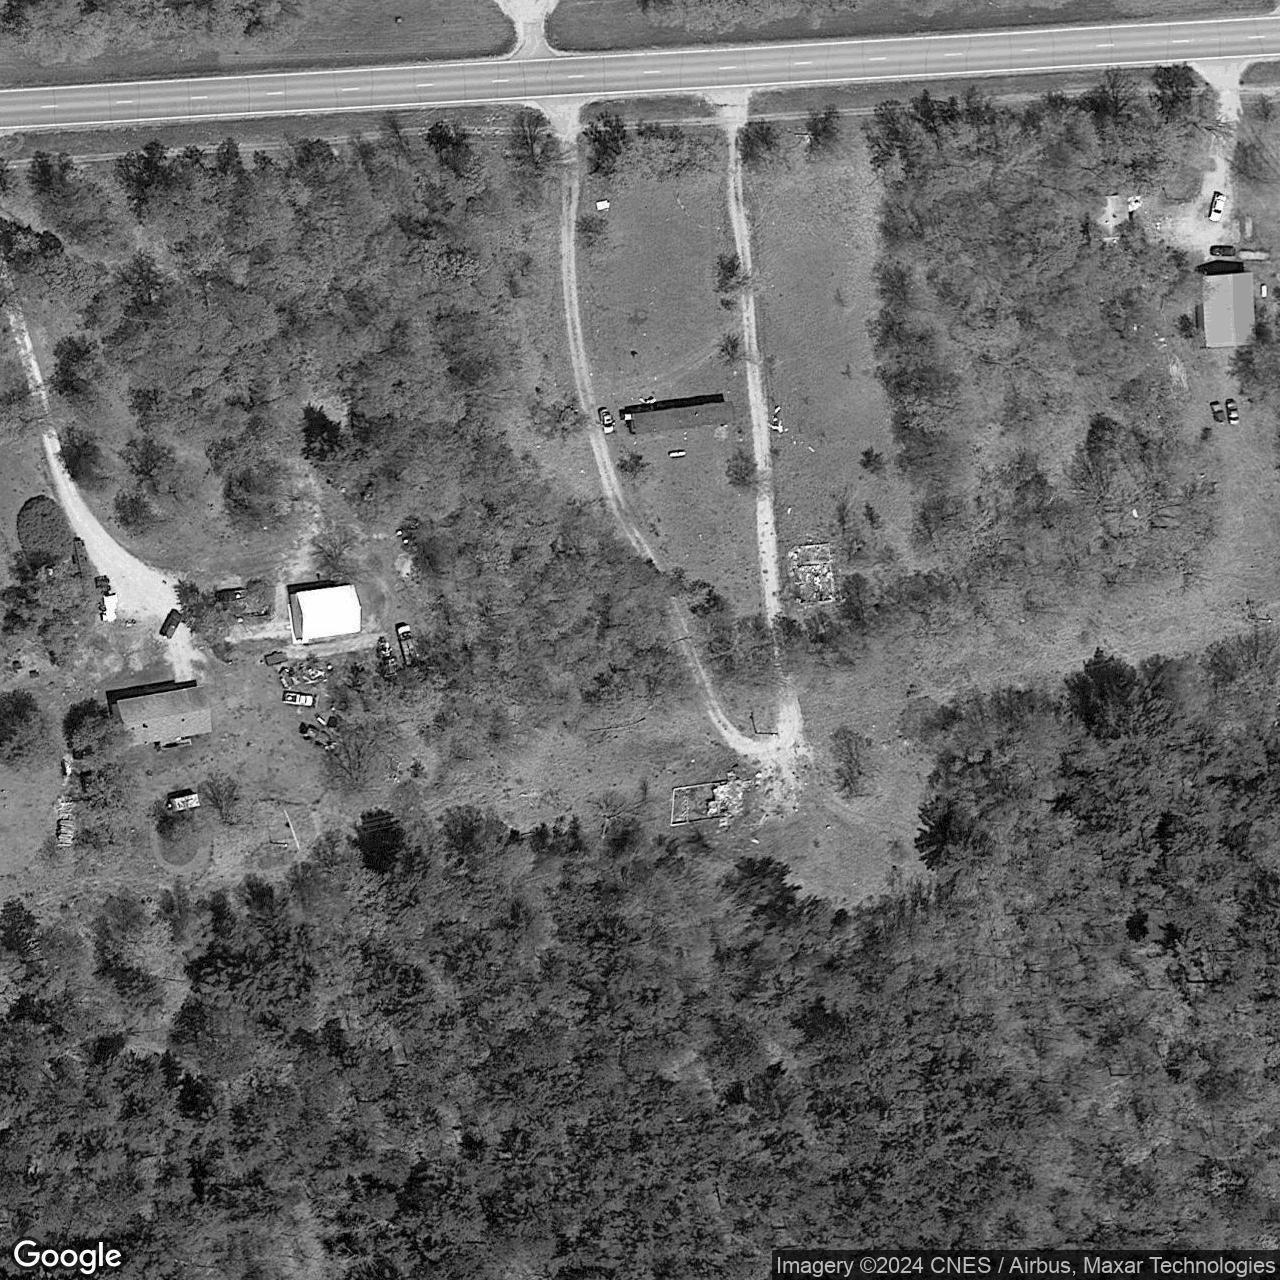Garage: (290, 584, 362, 644), (1089, 196, 1129, 238)
House: (110, 686, 212, 749), (1196, 272, 1258, 348)
Propane: (668, 449, 687, 458), (1260, 284, 1269, 299)
Trailer: (621, 400, 735, 435)
